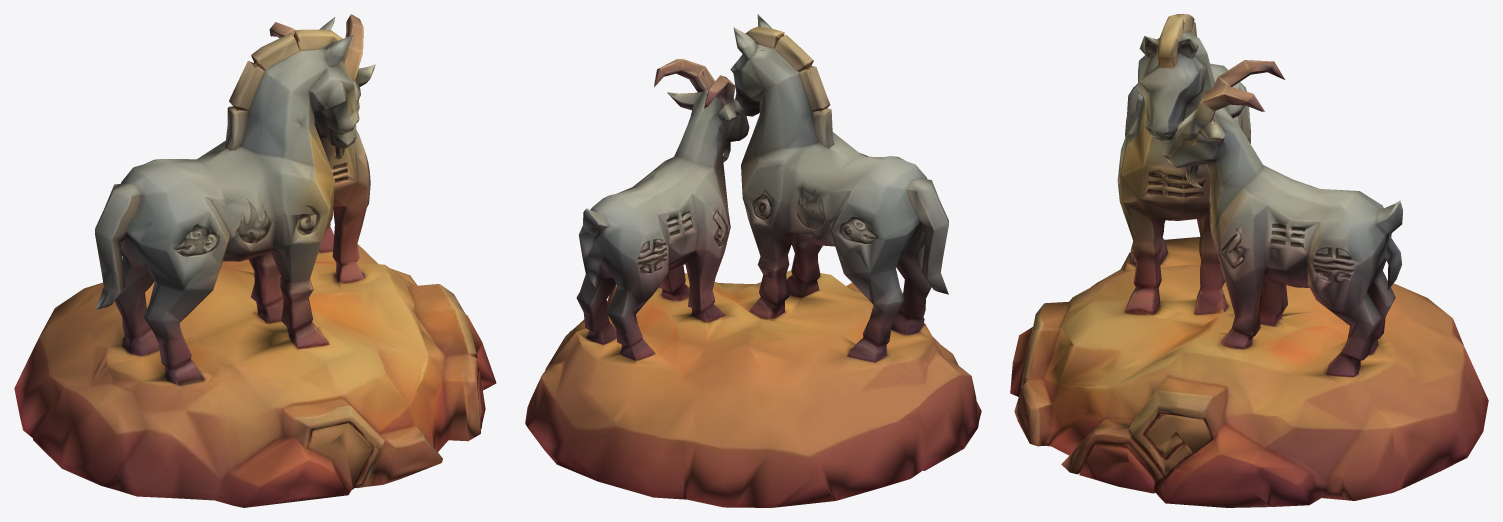
Rendered from he_wu_wei.glb.
3 renders of one model, left to right at view 1: azimuth 30°, elevation 25°; view 2: azimuth 150°, elevation 25°; view 3: azimuth 270°, elevation 25°, orthographic. The views are drawn at different scales.
Visible parts, largest first — view 1: tripo_node_bdc50caa-42ce-4461-9ccd-54272a1fb9e8; view 2: tripo_node_bdc50caa-42ce-4461-9ccd-54272a1fb9e8; view 3: tripo_node_bdc50caa-42ce-4461-9ccd-54272a1fb9e8.
Boxes of the visible parts, x1=… form: tripo_node_bdc50caa-42ce-4461-9ccd-54272a1fb9e8: x1=14, y1=14, x2=496, y2=507; tripo_node_bdc50caa-42ce-4461-9ccd-54272a1fb9e8: x1=525, y1=14, x2=981, y2=507; tripo_node_bdc50caa-42ce-4461-9ccd-54272a1fb9e8: x1=1010, y1=14, x2=1488, y2=507.
Size of the model in its own units: 0.9934 by 0.8869 by 0.9763.
1 material, 1 textured.
